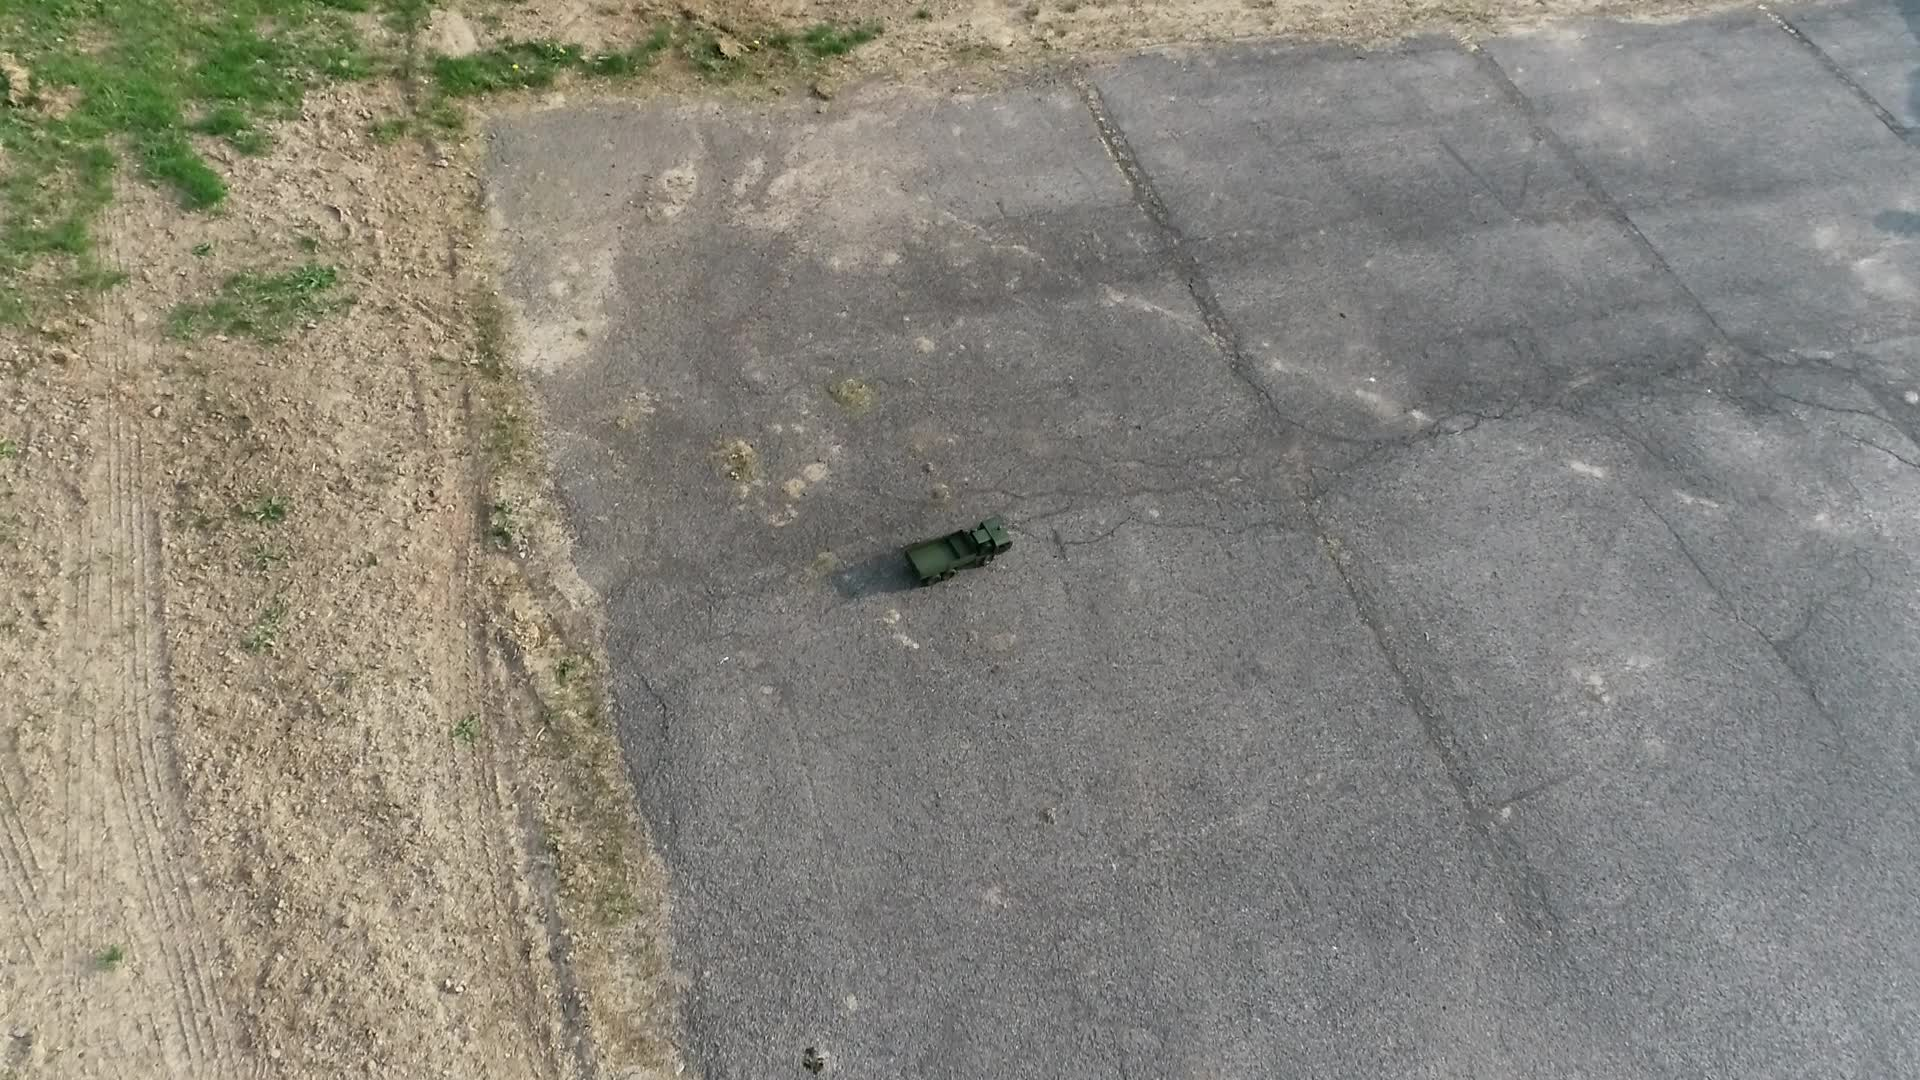transporter9: (901, 512, 1015, 589)
